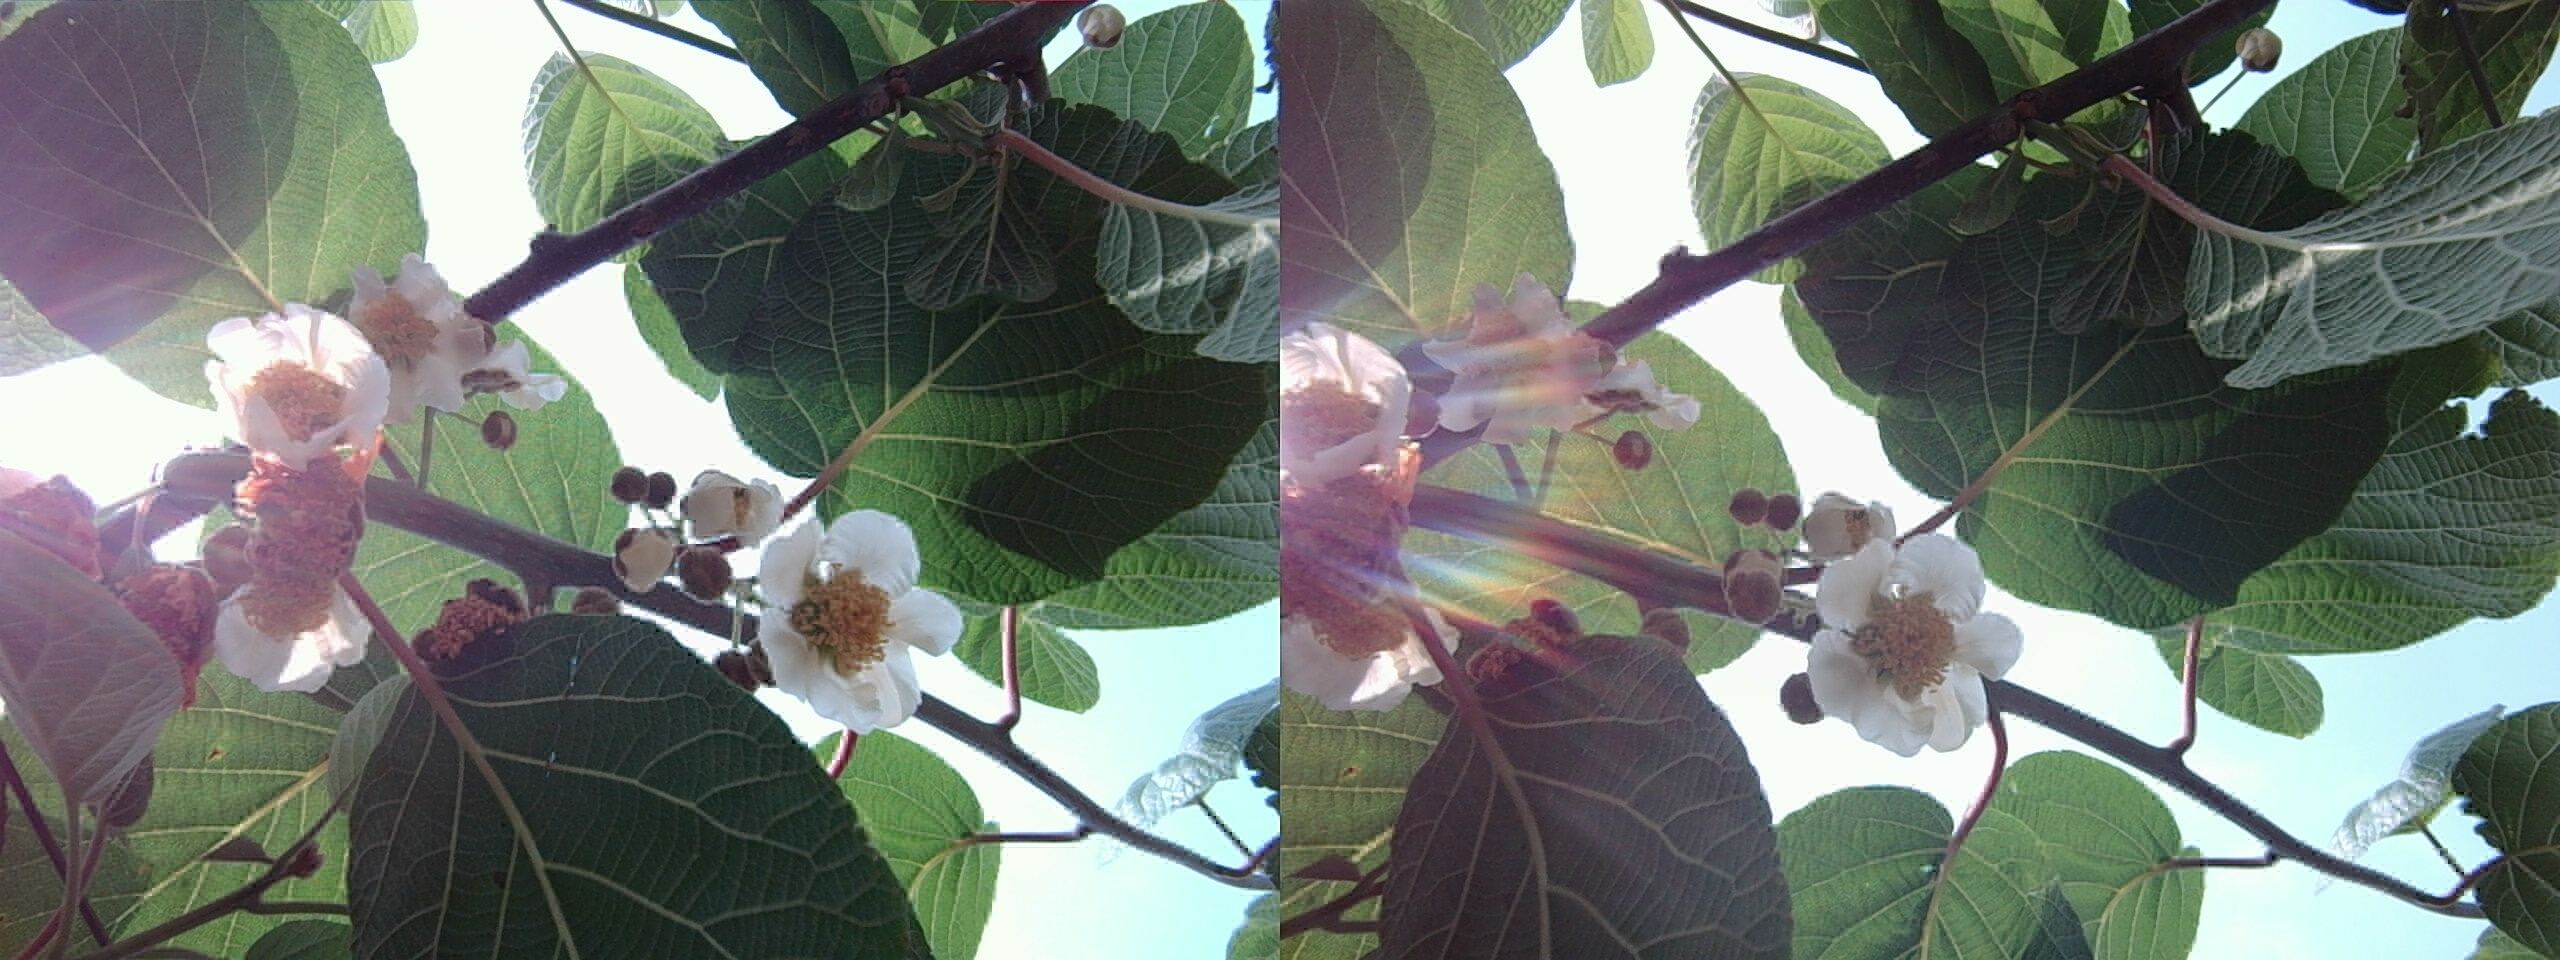flower: (186, 313, 390, 632), (1771, 514, 2018, 762), (722, 498, 963, 748), (317, 255, 539, 442), (194, 307, 389, 480)
